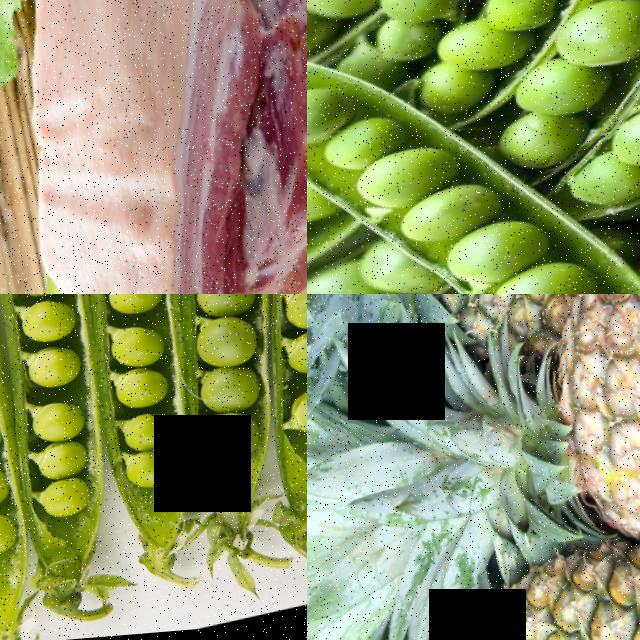peas: (468, 0, 640, 232), (307, 48, 489, 266), (41, 294, 195, 510), (128, 294, 288, 480), (0, 294, 111, 544), (438, 205, 640, 294), (406, 0, 596, 88), (225, 294, 307, 461)
pineapple: (325, 514, 640, 640), (502, 294, 640, 575), (342, 294, 600, 354)
pork belly: (0, 0, 291, 294), (176, 0, 307, 294)
